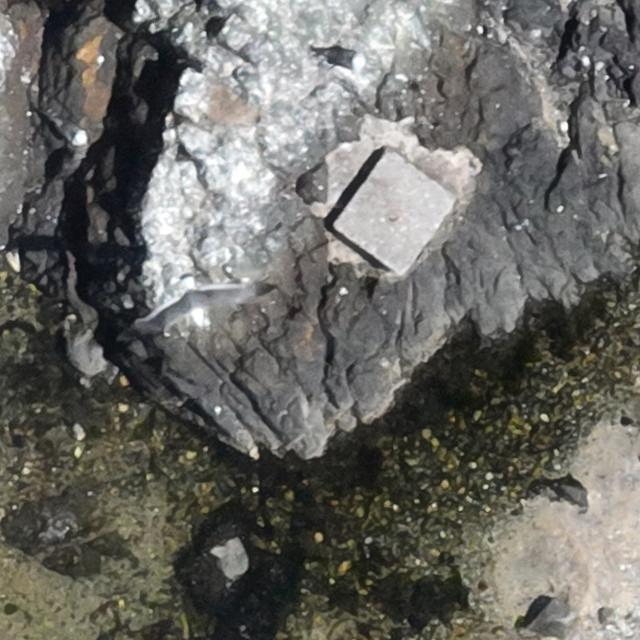F: (154, 270, 249, 326)
umineko: (53, 115, 88, 145), (321, 48, 362, 67)
